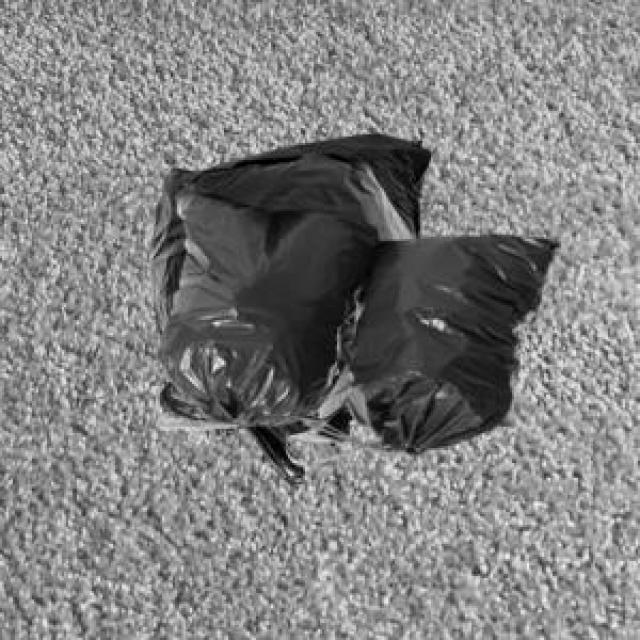miscellaneous trash: (152, 179, 555, 452), (143, 149, 410, 484), (203, 130, 427, 337)
